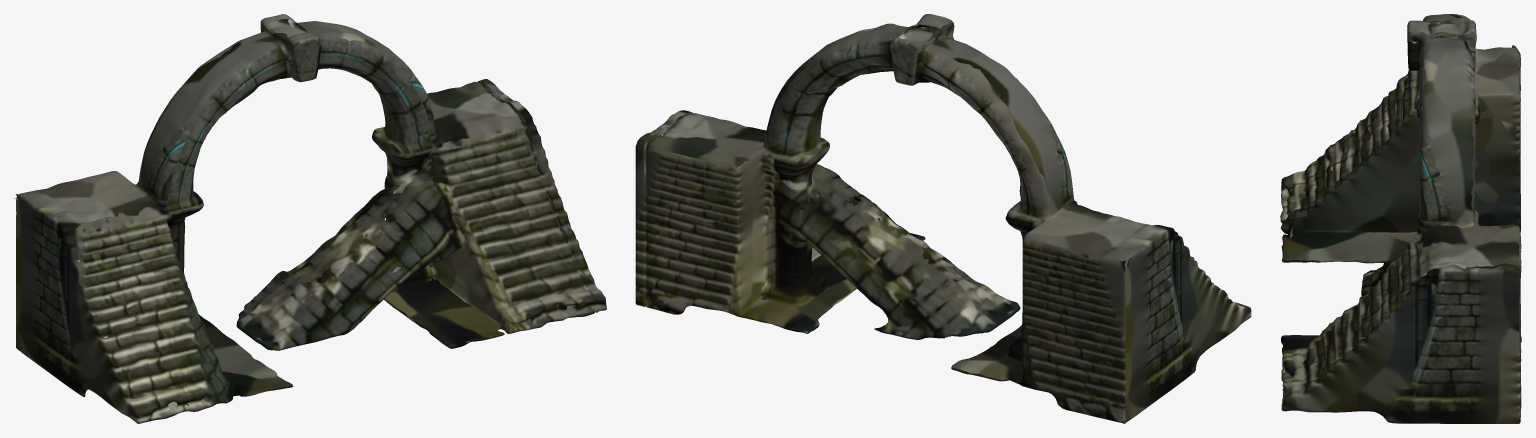
The model's file is struct_collapsed_arch.glb.
3 views of the same model, side by side, from view 1: azimuth 30°, elevation 25°; view 2: azimuth 150°, elevation 25°; view 3: azimuth 270°, elevation 25° (orthographic). The views are drawn at different scales.
Visible parts, largest first — view 1: geometry_0; view 2: geometry_0; view 3: geometry_0.
Part boxes in pixels (<box>): geometry_0: <box>14,14,606,423</box>; geometry_0: <box>635,14,1251,423</box>; geometry_0: <box>1280,14,1521,423</box>.
Size of the model in its own units: 13.48 by 8 by 6.08.
Materials: 1 (1 with a texture image).
